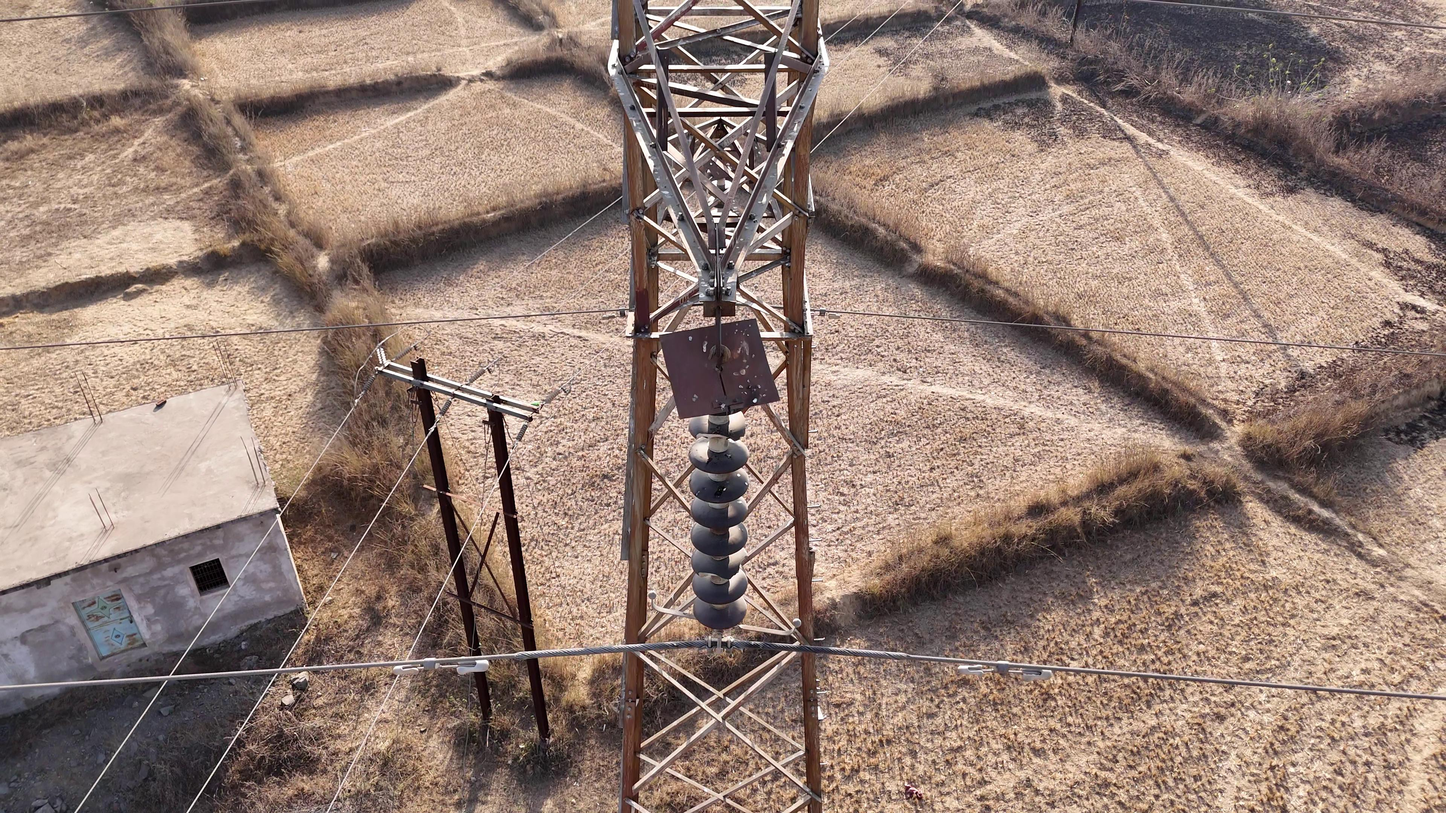broken_insulator: (685, 549, 754, 583), (690, 412, 755, 444)
